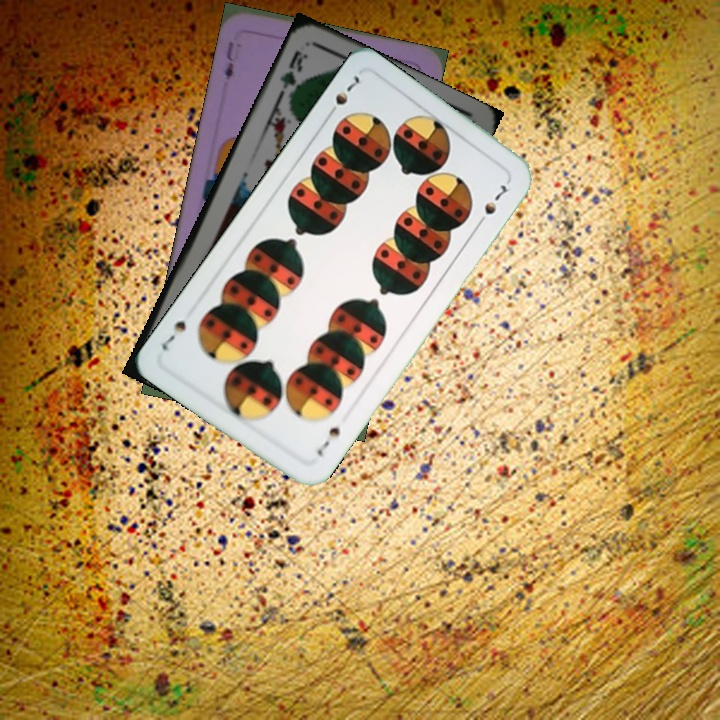EU: (219, 37, 240, 83)
GK: (275, 46, 311, 102)
S7: (322, 71, 362, 121), (313, 422, 343, 459)
